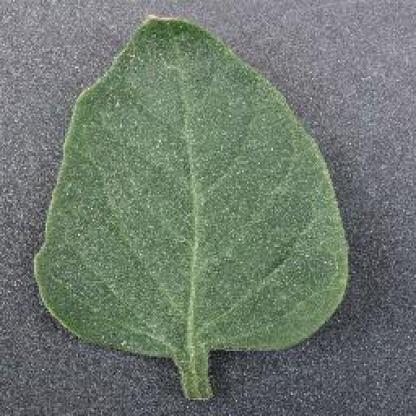good leaf: (57, 28, 329, 334)
